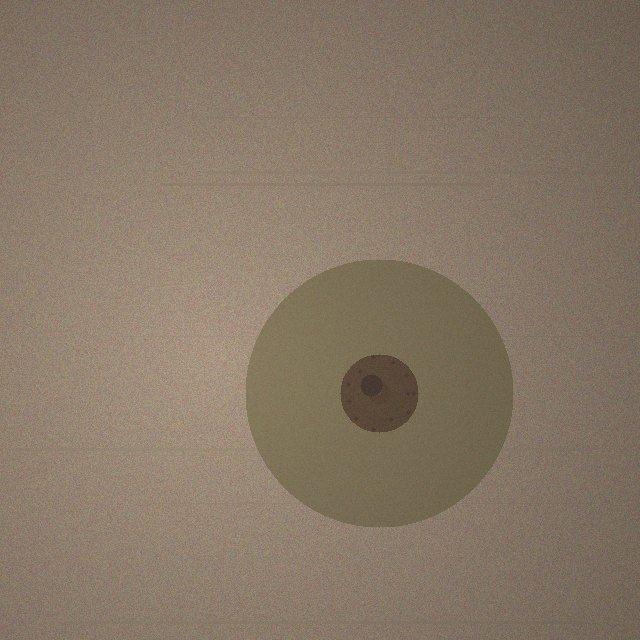cold_weld: (245, 259, 513, 527)
